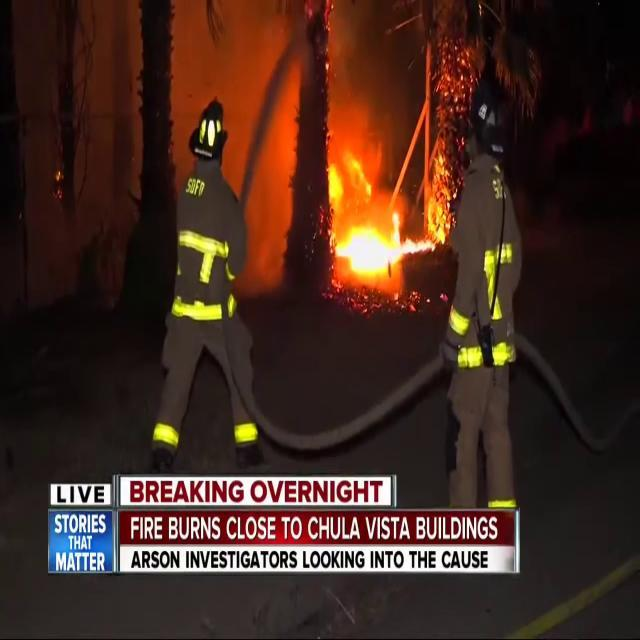Fire: (324, 140, 410, 290)
